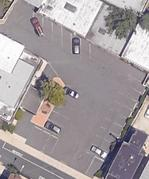parkingspot: (86, 66, 148, 164), (32, 11, 92, 65), (42, 85, 84, 138)
